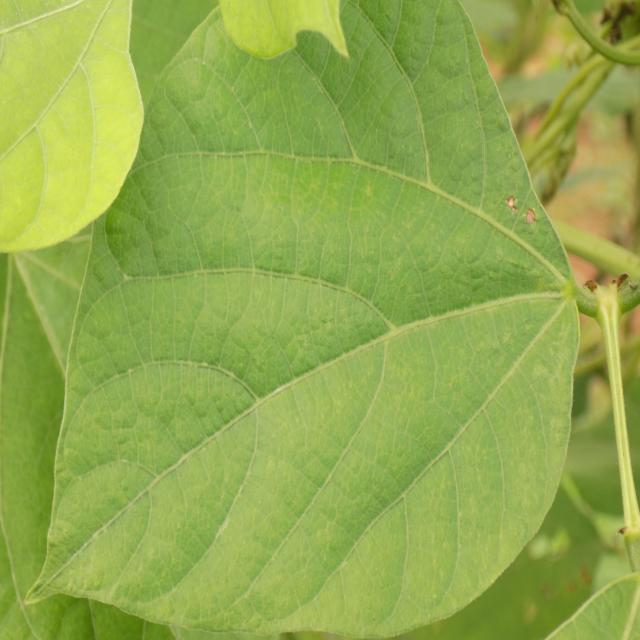Dolicos bean_healthy: (32, 0, 574, 640), (0, 0, 144, 273)
